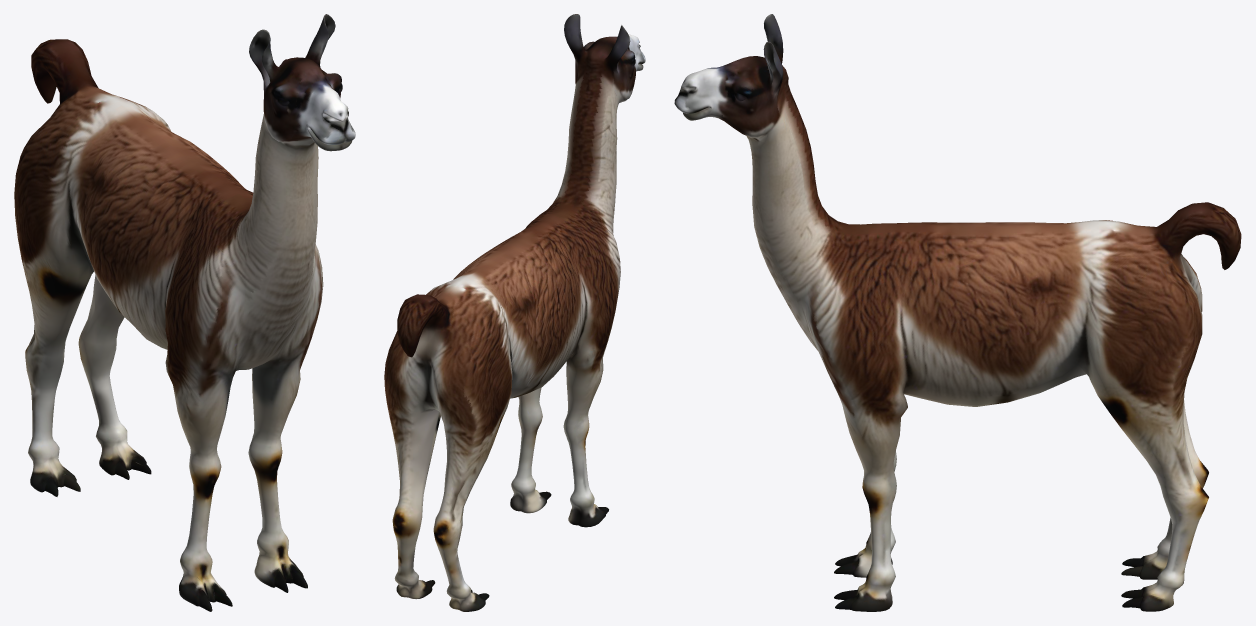
Rendered from alpaca.glb.
3 views of the same model, side by side, from view 1: azimuth 30°, elevation 25°; view 2: azimuth 150°, elevation 25°; view 3: azimuth 270°, elevation 25° (orthographic). The views are drawn at different scales.
Visible parts, largest first — view 1: Body_01; view 2: Body_01; view 3: Body_01.
Boxes of the visible parts, x1=… form: Body_01: x1=14, y1=14, x2=355, y2=611; Body_01: x1=384, y1=14, x2=645, y2=611; Body_01: x1=674, y1=14, x2=1241, y2=611.
Size of the model in its own units: 0.2364 by 1 by 0.9172.
1 material, 1 textured.
